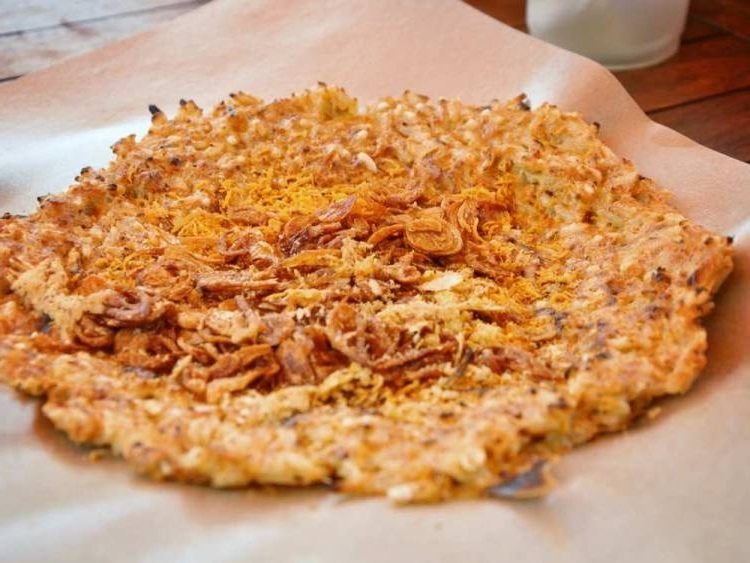kerak_telor: (5, 89, 735, 505)
